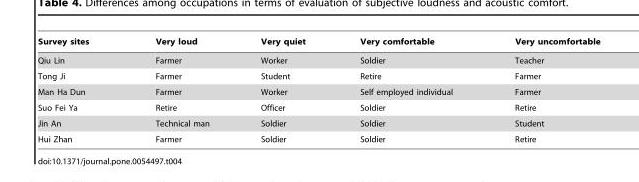table: (36, 36, 599, 143)
table column: (332, 36, 483, 143), (483, 36, 599, 143), (121, 36, 234, 143), (234, 36, 332, 143), (36, 36, 121, 143)
table column header: (36, 36, 599, 50)
table row: (36, 50, 599, 68), (36, 83, 599, 99), (36, 99, 599, 115), (36, 115, 599, 131), (36, 68, 599, 83), (36, 36, 599, 50), (36, 131, 599, 143)
